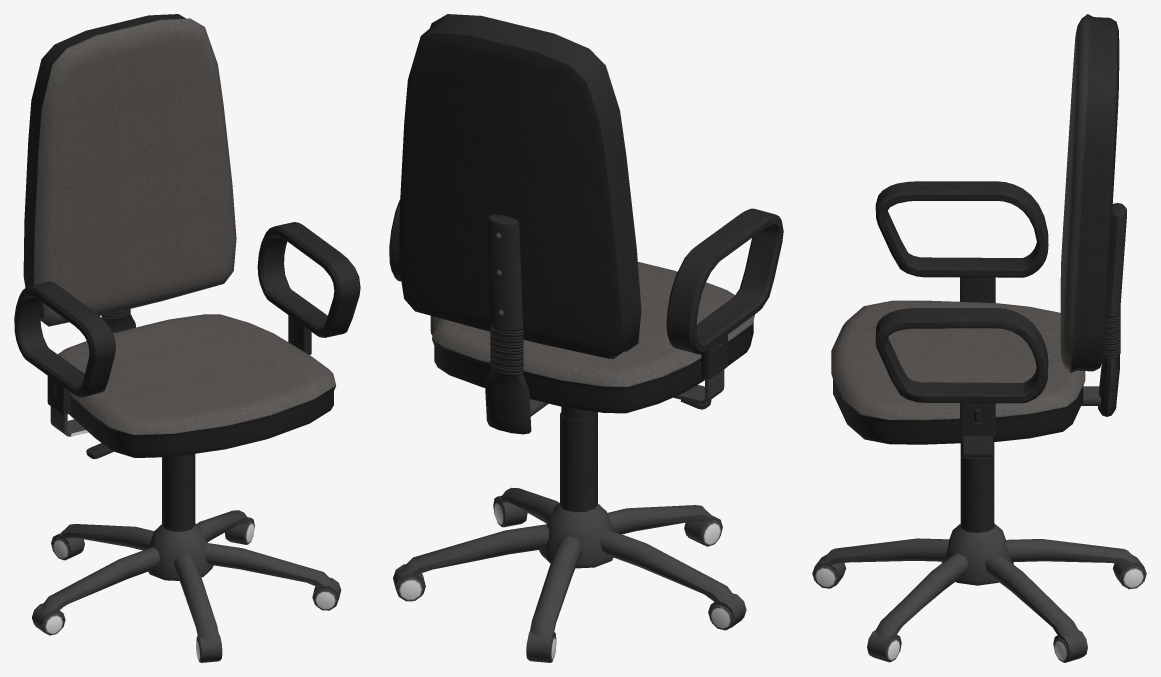
The model's file is office-chair.glb.
The picture shows the model from 3 angles, left to right: view 1: azimuth 30°, elevation 25°; view 2: azimuth 150°, elevation 25°; view 3: azimuth 270°, elevation 25°; orthographic projection. The views are drawn at different scales.
Visible parts, largest first — view 1: office_chair_nisu; view 2: office_chair_nisu; view 3: office_chair_nisu.
Part boxes in pixels (box(x1,y1,x2,y2)): office_chair_nisu: box(14, 14, 360, 662); office_chair_nisu: box(389, 14, 783, 662); office_chair_nisu: box(812, 14, 1146, 662).
Size of the model in its own units: 0.5518 by 1.01 by 0.5433.
1 material, 1 textured.
